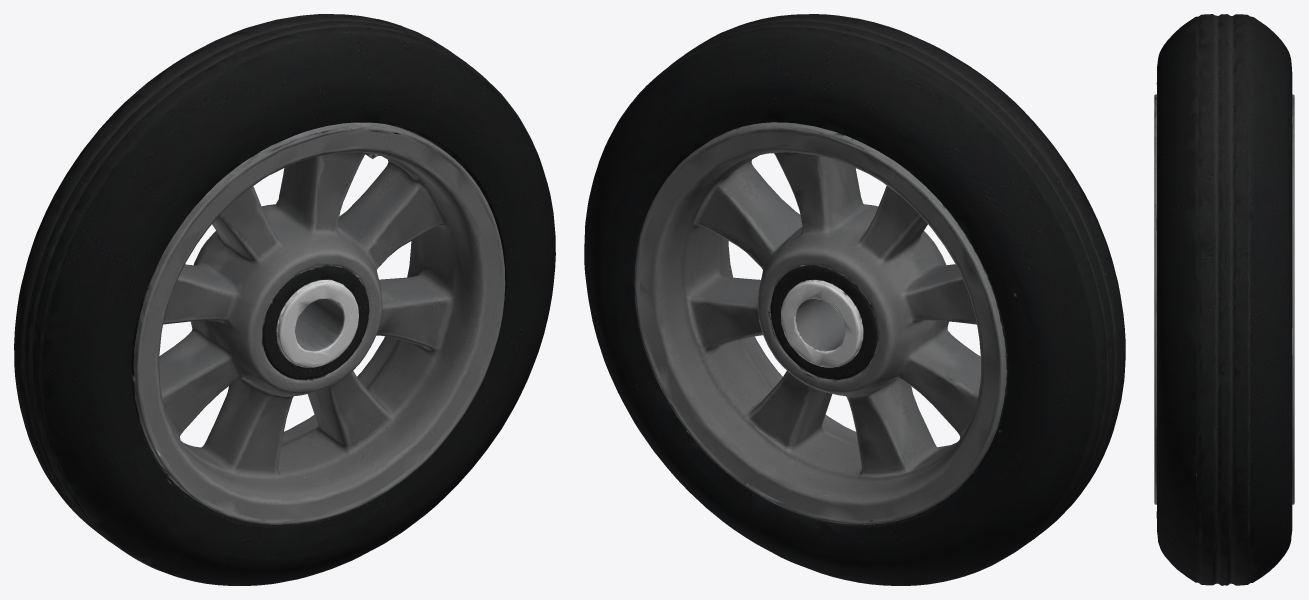
File: scooter_wheel.glb
3 views of the same model, side by side, from view 1: azimuth 30°, elevation 25°; view 2: azimuth 150°, elevation 25°; view 3: azimuth 270°, elevation 25° (orthographic). The views are drawn at different scales.
Size of the model in its own units: 1.9 by 1.9 by 0.4681.
Materials: 1 (1 with a texture image).
